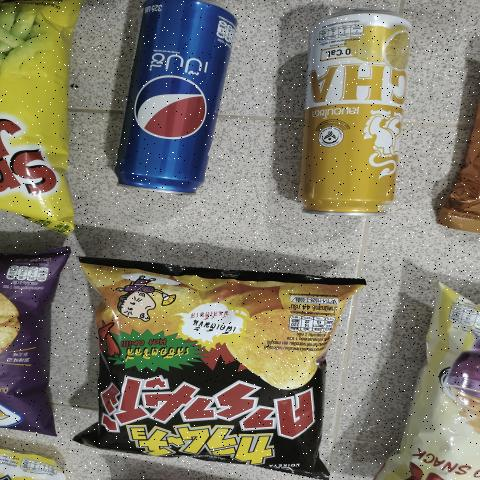karamujo: (76, 266, 336, 471)
pepsi_blue: (103, 0, 249, 206)
singha_yellow: (297, 7, 412, 219)
